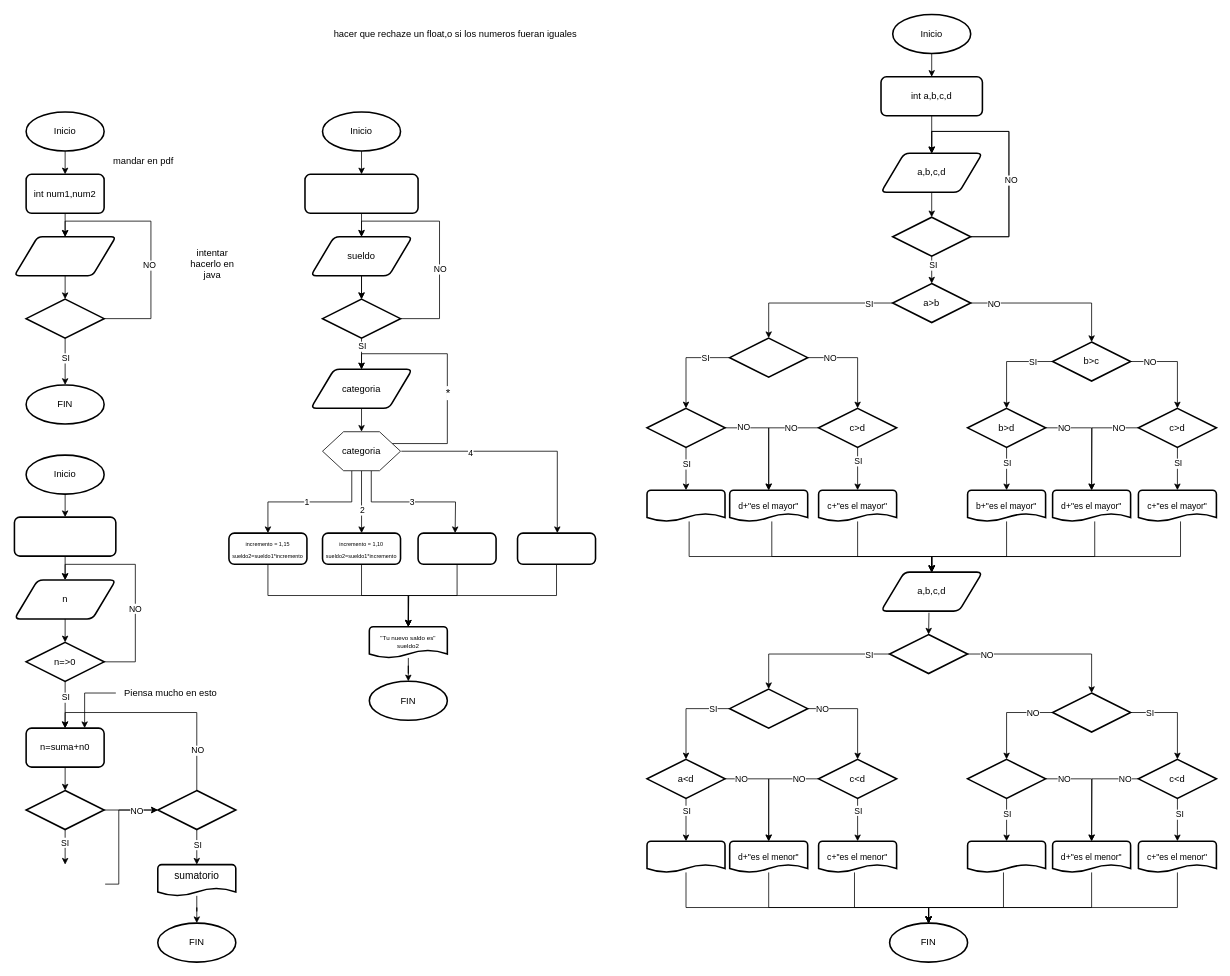
The diagram is 1230 pixels wide and 976 high, and some of its shapes have lost their labels. The shapes that lost their labels are listed below. From the top down, each one's centre as x and y in pixels, then its label:
point 361,193: float sueldo1, incremento int categoria
point 64,256: num1,num2
point 931,236: a!=b||a!=c||a!=d b!=c||b!=d
point 65,318: num1=num2
point 361,318: sueldo>0
point 768,357: a>c
point 685,427: a>d
point 685,505: a+"es el mayor"
point 64,536: int n, n_ini, suma
point 456,548: incremento = 1,08 sueldo2=sueldo1*incremento
point 556,548: incremento = 1,07 sueldo2=sueldo1*incremento
point 928,653: a<b
point 768,708: a<c
point 1091,712: b<c
point 1006,778: b<d
point 65,809: n_ini mod 2=0
point 196,809: n_ini=n
point 685,856: a+"es el menor"
point 1006,856: b+"es el menor"
